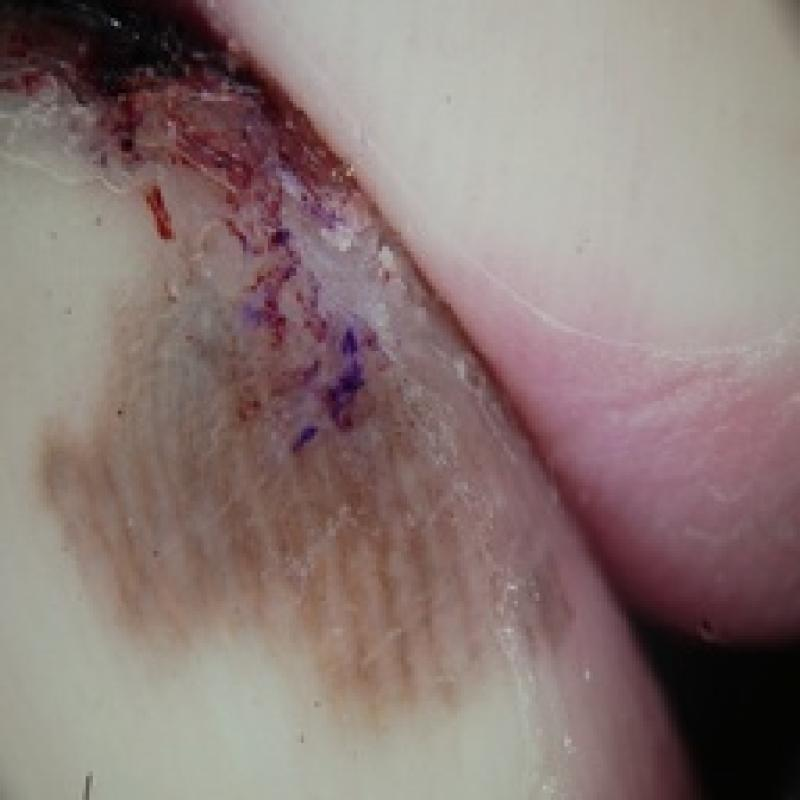malignant: (0, 0, 493, 446)
